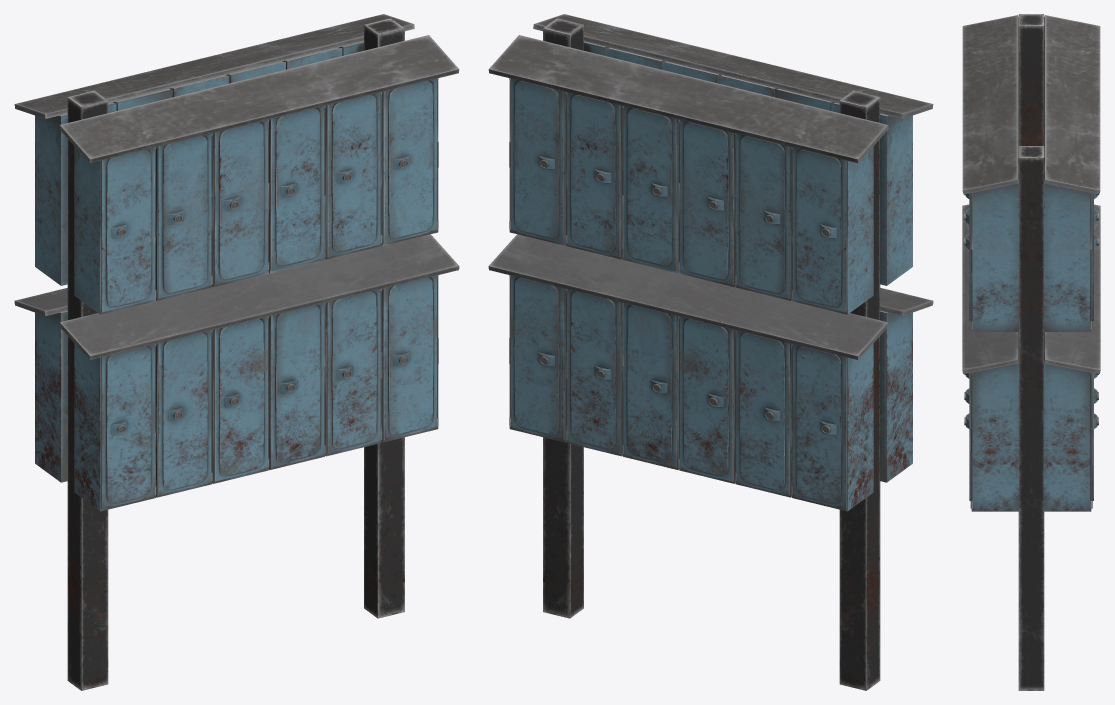
Rendered from почтовый ящик улица.fbx.
3 renders of one model, left to right at view 1: azimuth 30°, elevation 25°; view 2: azimuth 150°, elevation 25°; view 3: azimuth 270°, elevation 25°, orthographic. The views are drawn at different scales.
Parts seen in each view (by area): view 1: почтовый ящик, door2, door4, door17, door15, door5, door14, door6, door7, door3, door13, door16 (+1 smaller); view 2: почтовый ящик, door8, door9, door11, door19, door22, door20, door1, door10, door12, door21, door24 (+1 smaller); view 3: почтовый ящик, door1, door24, door6, door13.
Boxes of the visible parts, x1,y1,x2,y2 form: почтовый ящик: [14, 14, 459, 690]; door2: [157, 134, 211, 298]; door4: [270, 106, 324, 270]; door17: [157, 330, 211, 495]; door15: [270, 303, 324, 467]; door5: [326, 92, 380, 257]; door14: [326, 289, 380, 453]; door6: [383, 78, 436, 243]; door7: [101, 147, 154, 312]; door3: [214, 120, 267, 284]; door13: [383, 275, 436, 440]; door16: [214, 317, 267, 481]; почтовый ящик: [488, 14, 933, 690]; door8: [792, 147, 846, 312]; door9: [736, 133, 790, 298]; door11: [623, 106, 677, 271]; door19: [792, 344, 846, 509]; door22: [623, 303, 677, 467]; door20: [736, 330, 790, 495]; door1: [511, 78, 564, 243]; door10: [680, 120, 733, 284]; door12: [567, 92, 620, 257]; door21: [680, 317, 733, 481]; door24: [511, 275, 564, 440]; почтовый ящик: [962, 14, 1100, 690]; door1: [1091, 193, 1098, 328]; door24: [1091, 373, 1098, 508]; door6: [964, 193, 971, 328]; door13: [964, 373, 971, 508].
Bounding box in the file's own units: 395 × 596 × 140.
